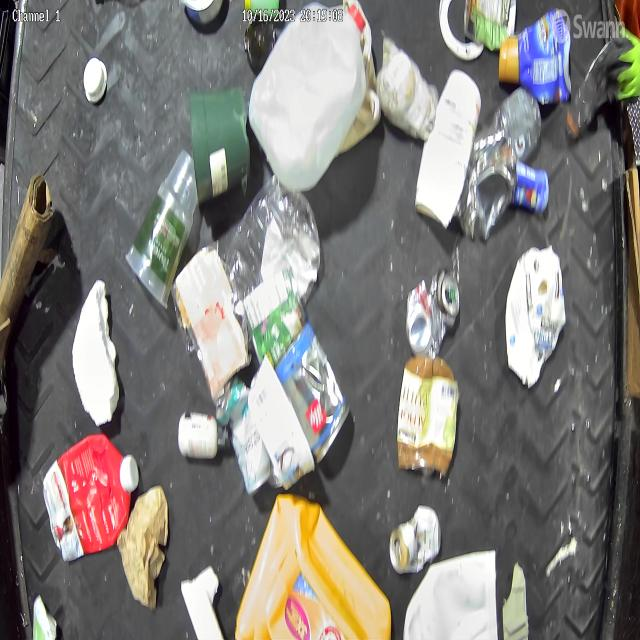can: (276, 320, 352, 470), (215, 374, 275, 495), (404, 266, 461, 361), (250, 285, 303, 373), (385, 498, 441, 578), (457, 0, 521, 63)
milk_jug: (246, 0, 368, 192), (64, 274, 124, 435)
non_white_jug: (237, 483, 393, 640)
